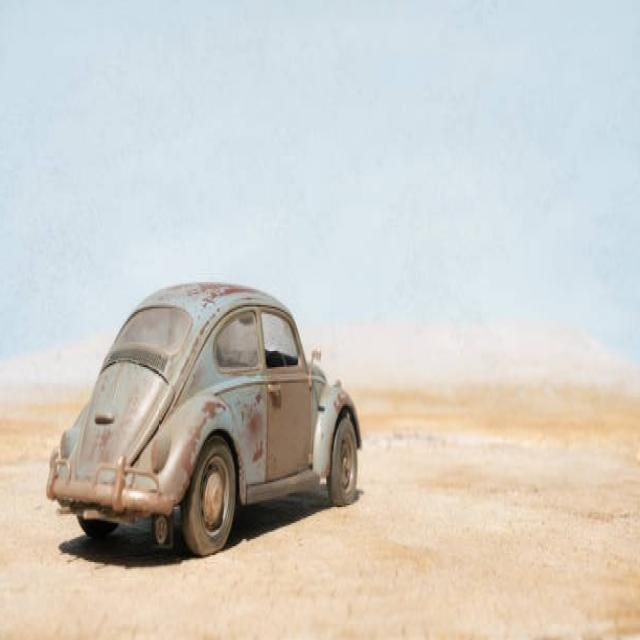car: (45, 288, 368, 562)
